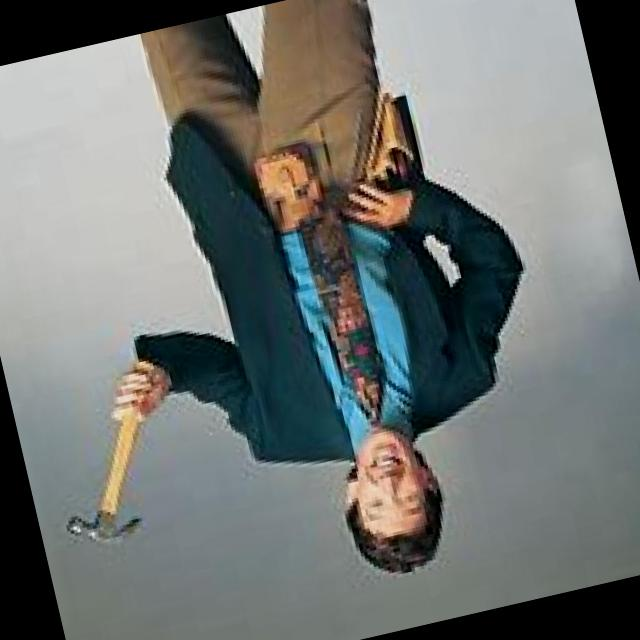hammer: (67, 412, 141, 542)
